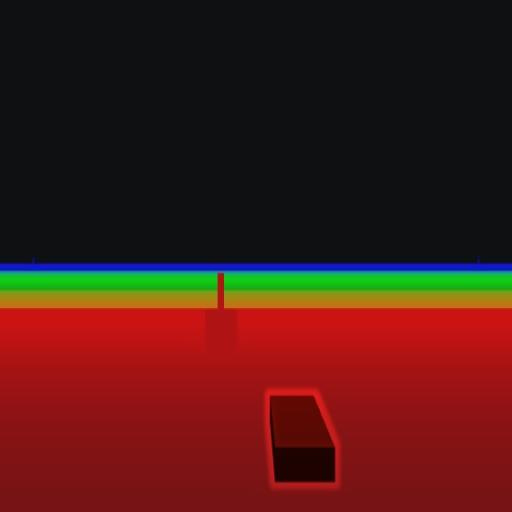debris_container: (266, 388, 338, 488)
